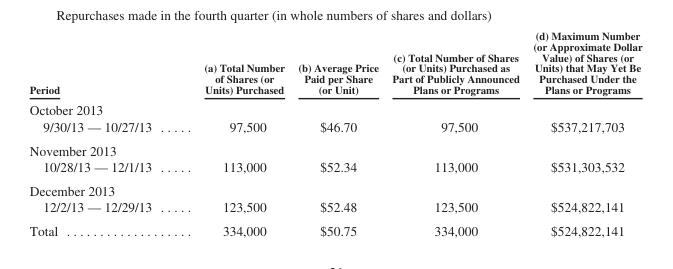table: (28, 29, 641, 238)
table column: (28, 29, 177, 238), (384, 29, 525, 238), (525, 29, 641, 238), (177, 29, 290, 238), (290, 29, 384, 238)
table column header: (28, 29, 641, 98)
table row: (28, 29, 641, 98), (28, 98, 641, 138), (28, 138, 641, 178), (28, 178, 641, 218), (28, 218, 641, 238)
